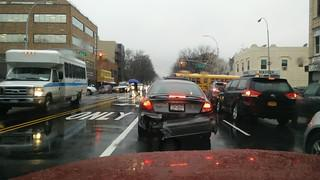rear-bumper-dent: (146, 110, 210, 135)
